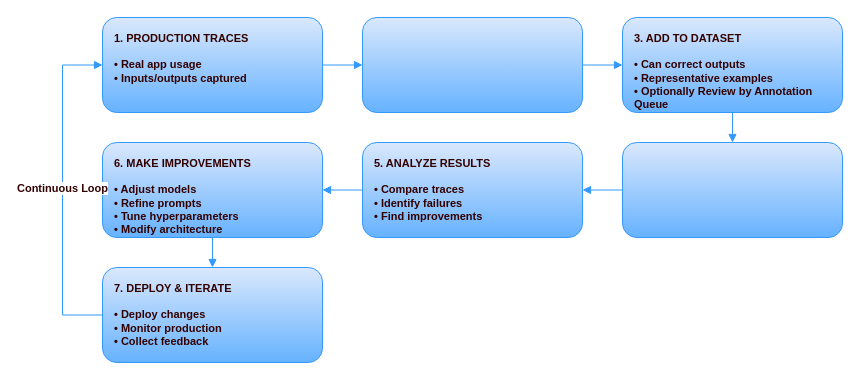
Image size: 860x380. Some labels were removed from this diagram. The centre of each missing label's shape, as x and y in pixels:
"2. FILTER TRACES • Negative feedback • Errors • High latency" belongs at [472,64].
"4. RUN EXPERIMENTS • Test changes • Run on dataset • Evaluation metrics" belongs at [732,190].
